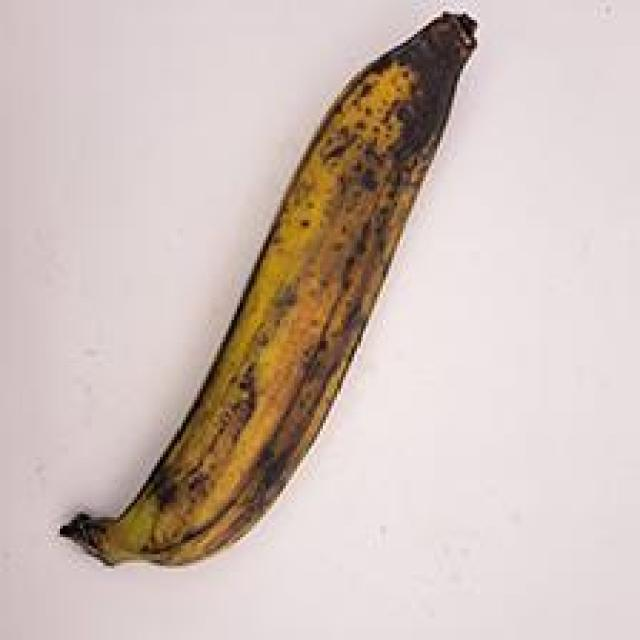Overripe: (54, 0, 478, 594)
